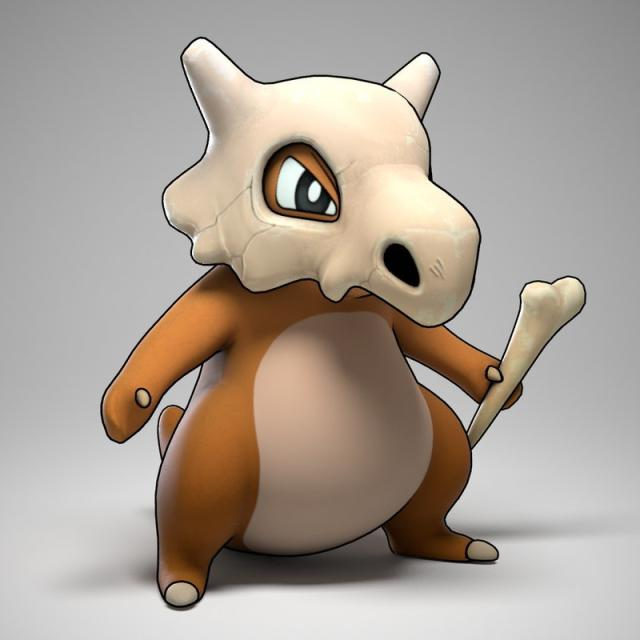Cubone: (150, 47, 492, 574)
